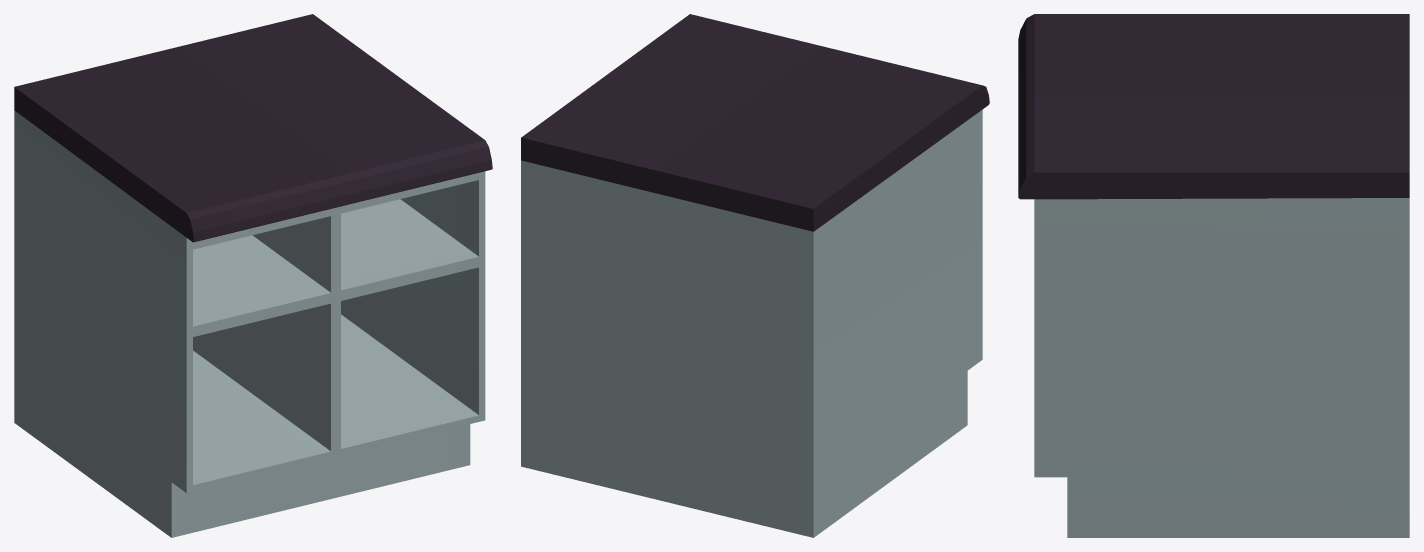
Rendered from Counter_DrawersNoDoors.fbx.
3 views of the same model, side by side, from view 1: azimuth 30°, elevation 25°; view 2: azimuth 150°, elevation 25°; view 3: azimuth 270°, elevation 25° (orthographic). The views are drawn at different scales.
Visible parts, largest first — view 1: Counter.DrawersNoDoor; view 2: Counter.DrawersNoDoor; view 3: Counter.DrawersNoDoor.
Boxes of the visible parts, bbox=[...] form: Counter.DrawersNoDoor: bbox=[14, 14, 492, 537]; Counter.DrawersNoDoor: bbox=[521, 14, 989, 537]; Counter.DrawersNoDoor: bbox=[1018, 14, 1409, 537].
Bounding box in the file's own units: 300 × 322 × 313.
